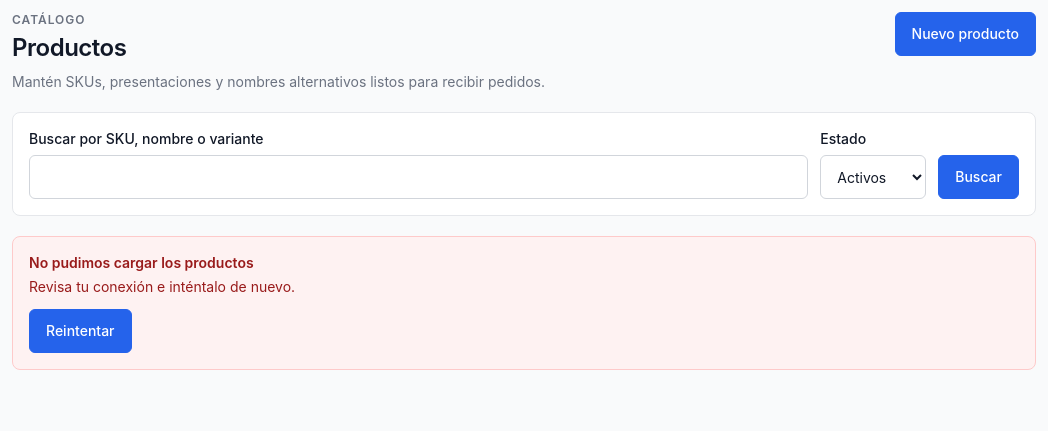
product catalog page › renders initial empty and recovers from a fetch error
Expected: the text "No pudimos cargar los productos" is shown, [29,254,254,271]
Click the button "Reintentar" at (80, 331), box [29,309,132,353]
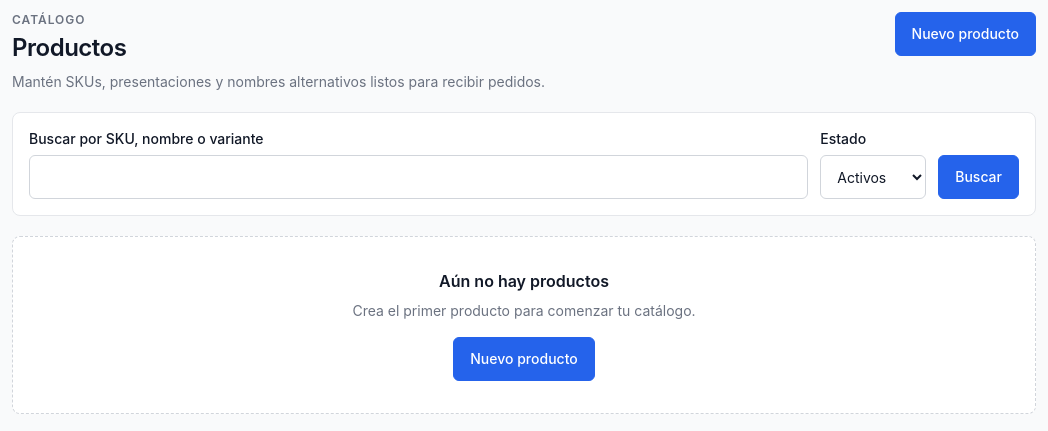
Expected: the heading "Aún no hay productos" is shown, [439,271,609,291]
